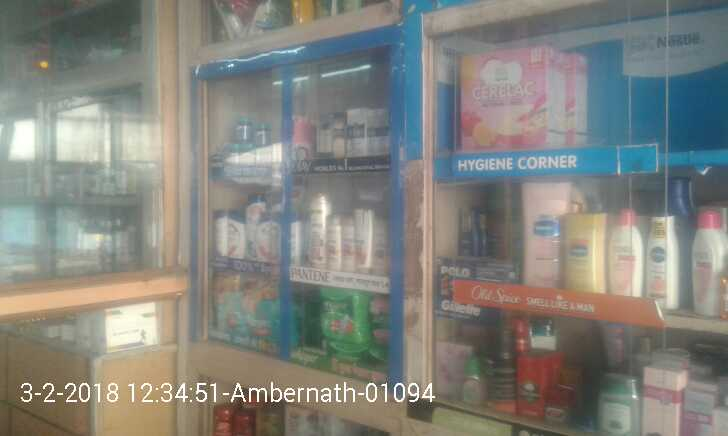beauty: (344, 213, 389, 285), (317, 211, 345, 272), (253, 207, 281, 264), (306, 190, 325, 263), (223, 200, 246, 257), (347, 107, 369, 159), (372, 112, 392, 158)
pharmacy: (208, 276, 279, 347), (319, 285, 370, 344), (230, 115, 254, 149), (250, 122, 272, 154)
